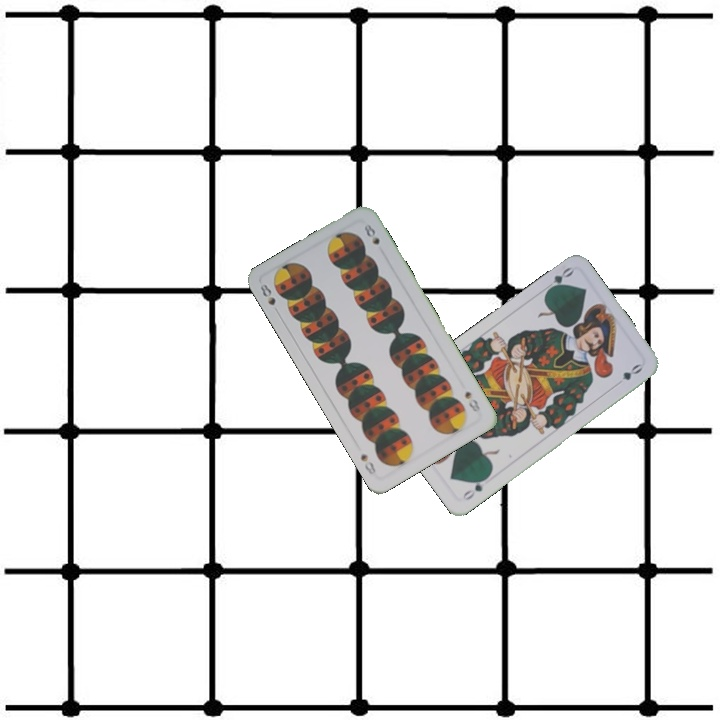GO: (539, 263, 576, 296), (458, 472, 492, 503)
S8: (256, 279, 282, 317), (461, 387, 483, 415)
